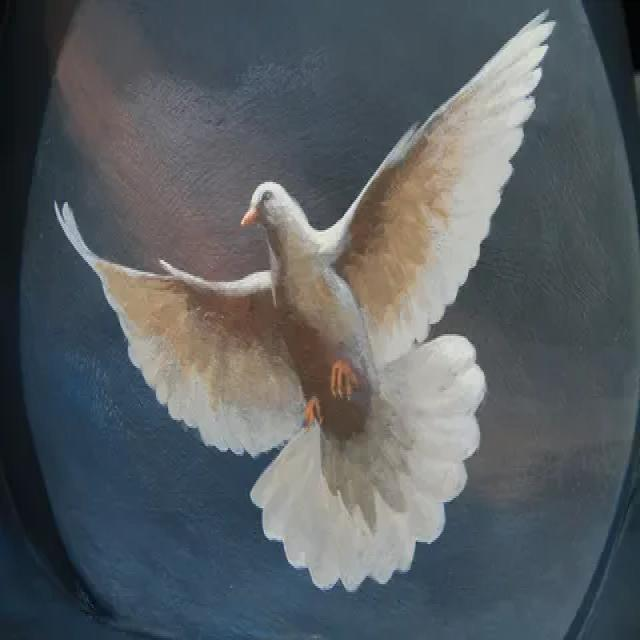pigeon: (61, 13, 554, 600)
